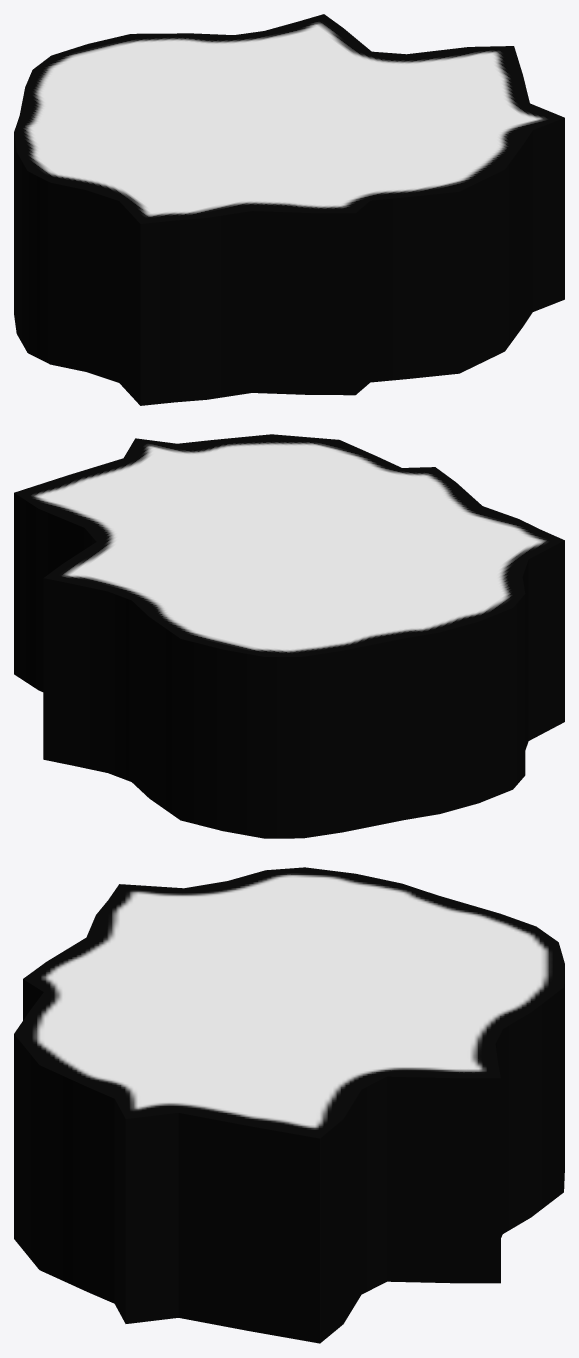
3 views of the same model, one above another, from view 1: azimuth 30°, elevation 25°; view 2: azimuth 150°, elevation 25°; view 3: azimuth 270°, elevation 25° (orthographic). The views are drawn at different scales.
Visible parts, largest first — view 1: polySurface45; view 2: polySurface45; view 3: polySurface45.
Part boxes in pixels (bbox=[...]): polySurface45: bbox=[14, 14, 564, 405]; polySurface45: bbox=[14, 434, 564, 838]; polySurface45: bbox=[14, 867, 564, 1343].
Bounding box in the file's own units: 1.42 × 0.5 × 1.22.
